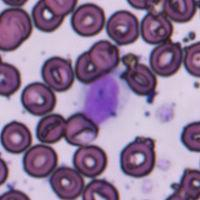L: (82, 72, 128, 127)
